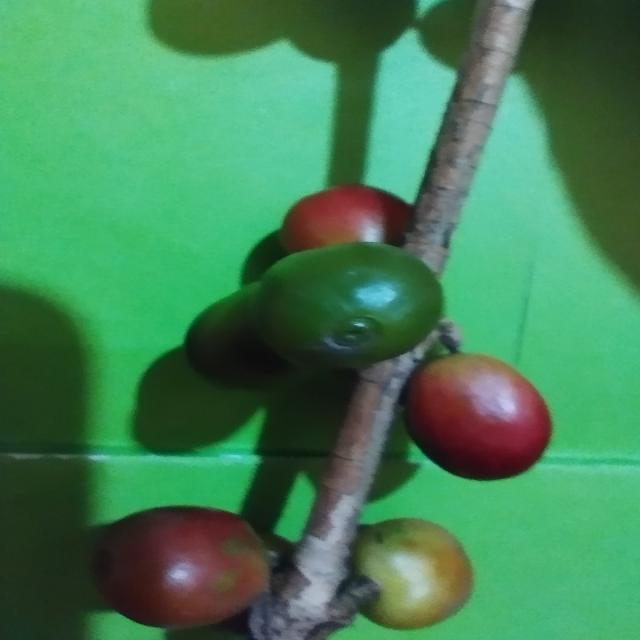Sano: (220, 240, 445, 374), (90, 506, 279, 634), (401, 354, 553, 484)
